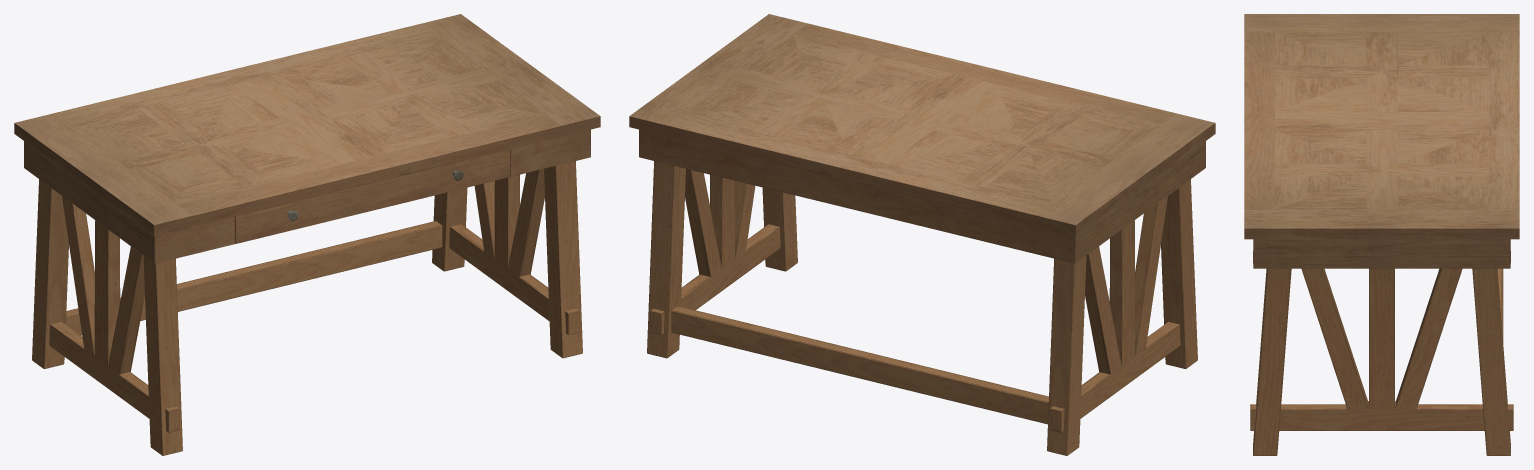
Rendered from desk_B07B7DL3GX.glb.
3 renders of one model, left to right at view 1: azimuth 30°, elevation 25°; view 2: azimuth 150°, elevation 25°; view 3: azimuth 270°, elevation 25°, orthographic.
Parts seen in each view (by area): view 1: RootNode; view 2: RootNode; view 3: RootNode.
Boxes of the visible parts, left/top/right/bottom form: RootNode: left=14, top=14, right=600, bottom=455; RootNode: left=629, top=14, right=1215, bottom=455; RootNode: left=1244, top=14, right=1519, bottom=455.
Size of the model in its own units: 1.5 by 0.7622 by 0.8128.
Materials: 1 (1 with a texture image).
